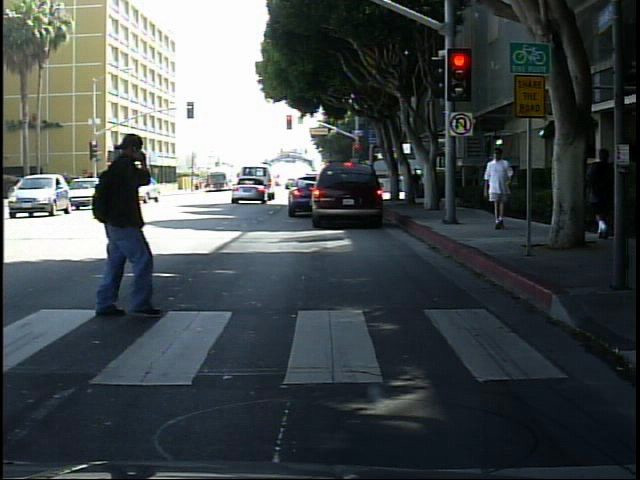person: (65, 127, 177, 341), (480, 145, 519, 237), (588, 137, 620, 244)
